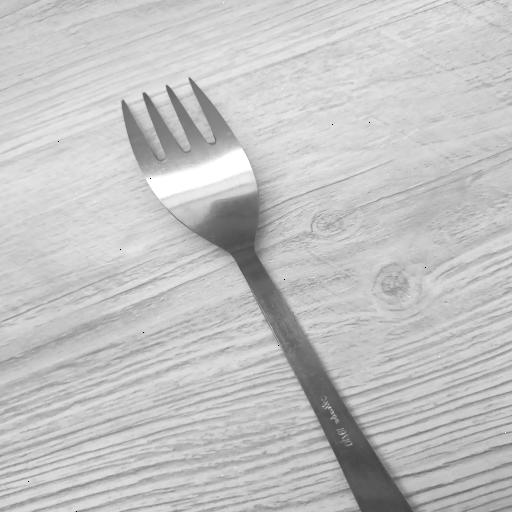fork: (112, 77, 418, 512)
